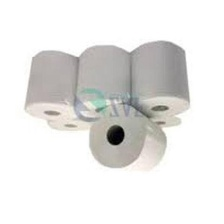tissue: (82, 99, 172, 179), (124, 38, 194, 122), (18, 47, 83, 125), (72, 42, 135, 119), (42, 109, 95, 135)
